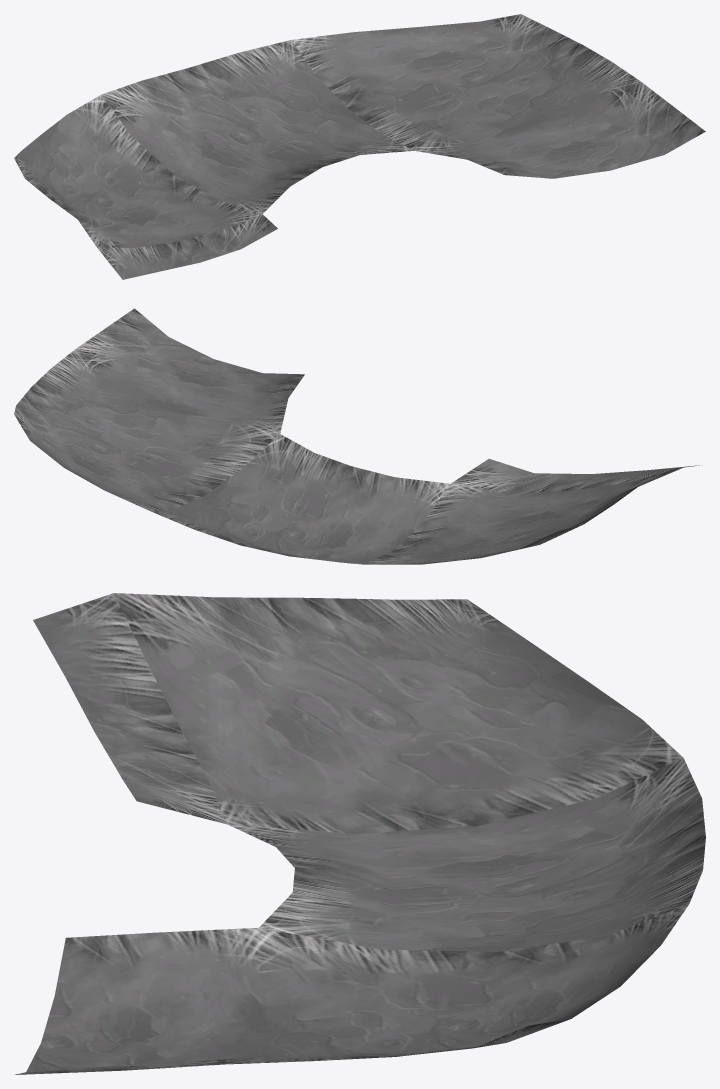
File: SWORDLIGHT20_PS-AREA01_21.fbx
3 renders of one model, top to bottom at view 1: azimuth 30°, elevation 25°; view 2: azimuth 150°, elevation 25°; view 3: azimuth 270°, elevation 25°, orthographic. The views are drawn at different scales.
Parts seen in each view (by area): view 1: SWORDLIGHT20_PS-AREA01_21; view 2: SWORDLIGHT20_PS-AREA01_21; view 3: SWORDLIGHT20_PS-AREA01_21.
Boxes of the visible parts, x1,y1,x2,y2 form: SWORDLIGHT20_PS-AREA01_21: (14,14,705,279); SWORDLIGHT20_PS-AREA01_21: (14,308,702,564); SWORDLIGHT20_PS-AREA01_21: (15,593,705,1074).
Bounding box in the file's own units: 180414 × 17877 × 110906.
Materials: 3 (3 with a texture image).
